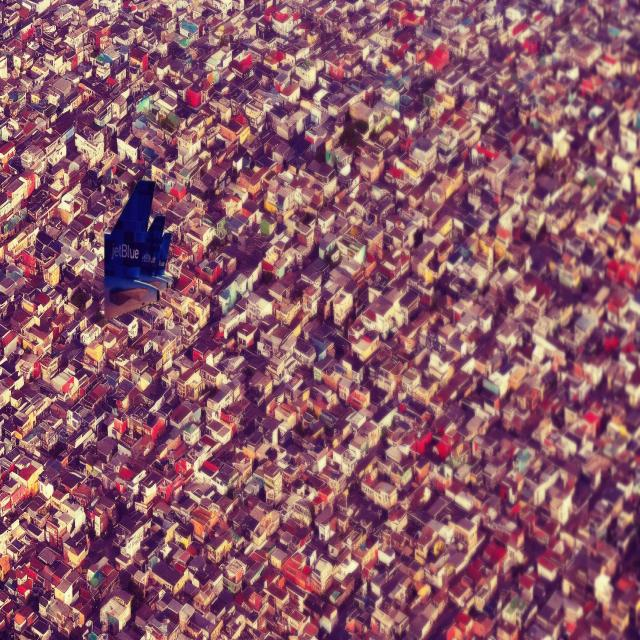airplane: (105, 181, 173, 313)
